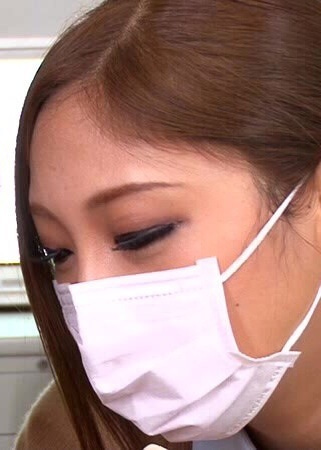mask: (53, 266, 298, 433)
